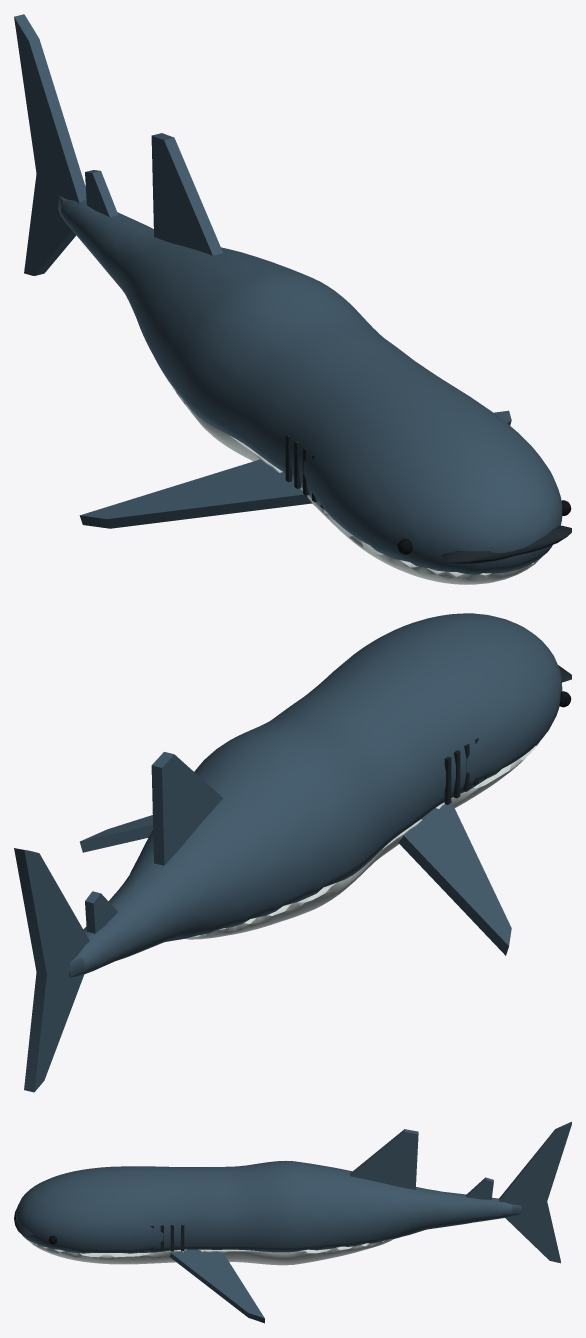
Rendered from whaleshark.glb.
3 views of the same model, one above another, from view 1: azimuth 30°, elevation 25°; view 2: azimuth 150°, elevation 25°; view 3: azimuth 270°, elevation 25° (orthographic). The views are drawn at different scales.
Visible parts, largest first — view 1: back_2, back_7, back_1_mx, back_5, belly_3, mouth_4, back_6; view 2: back_2, back_7, back_1_mx, back_5, belly_3, back_1, back_6; view 3: back_2, back_7, belly_3, back_1, back_5, back_6.
Boxes of the visible parts, left/top/right/bottom form: back_2: left=58, top=196, right=562, bottom=574; back_7: left=14, top=14, right=86, bottom=275; back_1_mx: left=79, top=459, right=312, bottom=528; back_5: left=151, top=133, right=222, bottom=255; belly_3: left=170, top=383, right=541, bottom=584; mouth_4: left=442, top=525, right=571, bottom=563; back_6: left=85, top=170, right=118, bottom=217; back_2: left=69, top=613, right=562, bottom=977; back_7: left=14, top=848, right=89, bottom=1092; back_1_mx: left=398, top=802, right=511, bottom=955; back_5: left=151, top=752, right=223, bottom=865; belly_3: left=184, top=742, right=539, bottom=939; back_1: left=80, top=815, right=153, bottom=852; back_6: left=85, top=891, right=118, bottom=933; back_2: left=16, top=1161, right=522, bottom=1253; back_7: left=499, top=1121, right=571, bottom=1263; belly_3: left=25, top=1237, right=399, bottom=1265; back_1: left=169, top=1249, right=264, bottom=1323; back_5: left=350, top=1129, right=418, bottom=1189; back_6: left=466, top=1177, right=493, bottom=1199.
Bounding box in the file's own units: 0.4956 × 0.2829 × 1.
